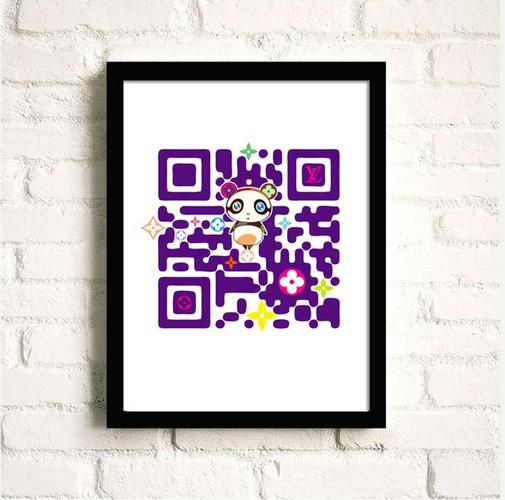QRCode: (152, 140, 346, 336)
